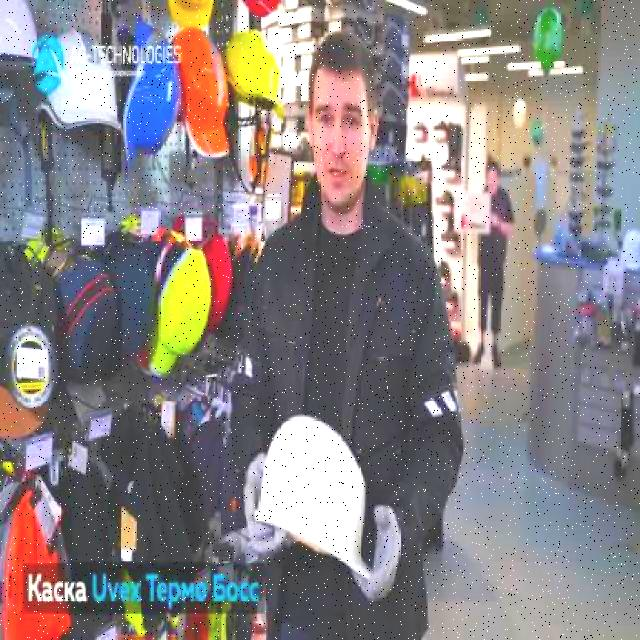Gloves: (242, 452, 293, 554), (358, 498, 400, 596)
Helmet: (250, 410, 372, 576), (36, 20, 127, 137), (120, 16, 180, 173), (167, 25, 233, 158), (224, 26, 286, 120), (0, 0, 45, 77)
